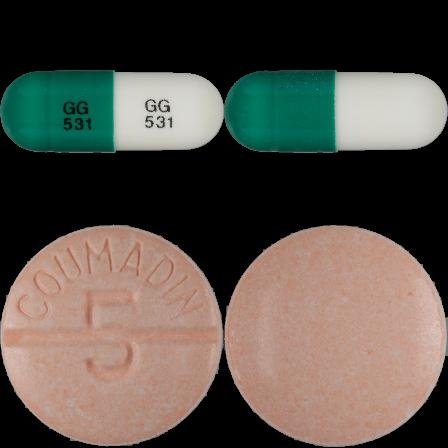67544-038: (0, 0, 224, 224)
